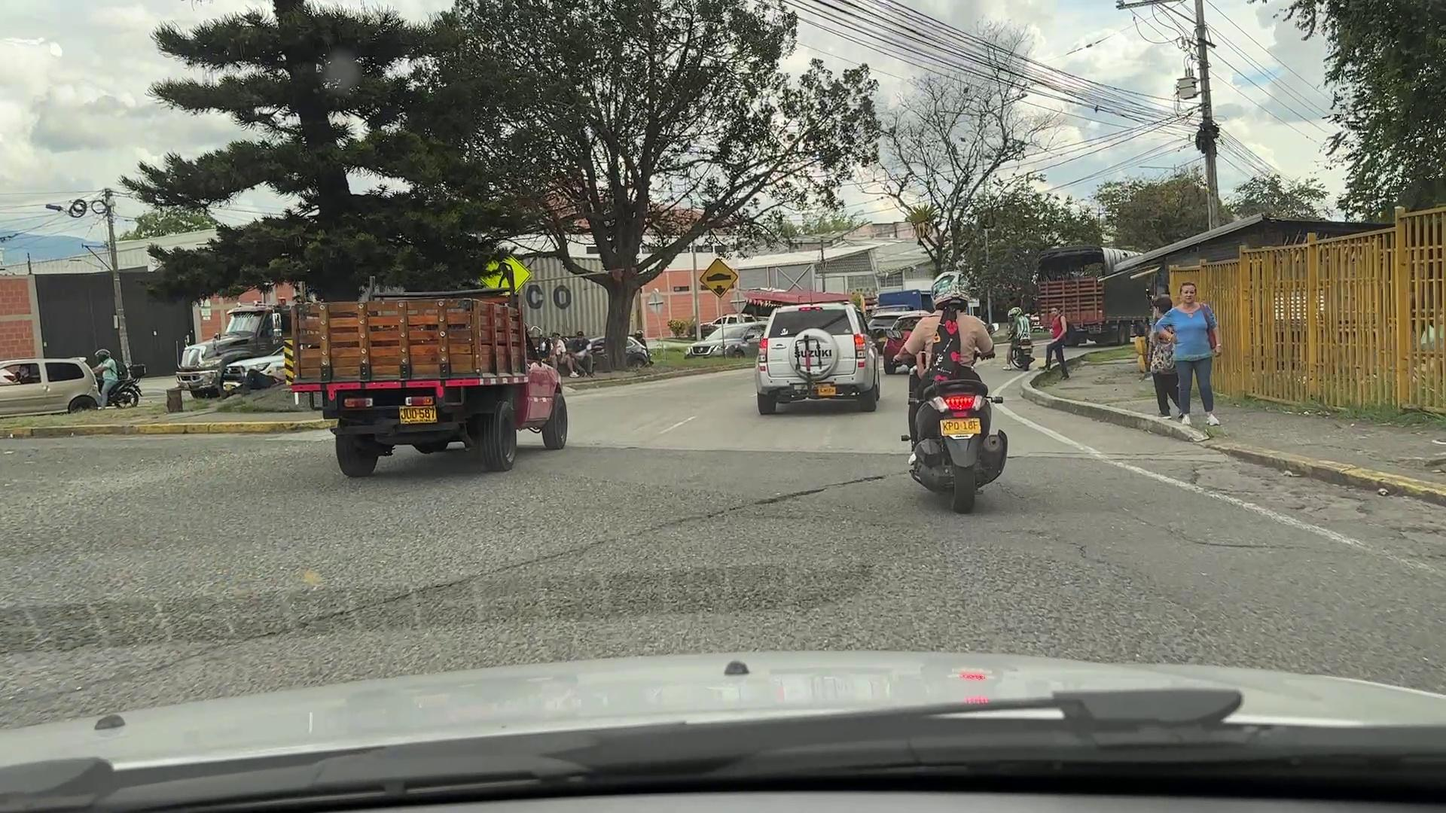bache: (1196, 466, 1274, 496), (1301, 495, 1366, 519), (754, 488, 827, 505), (824, 474, 892, 488)
